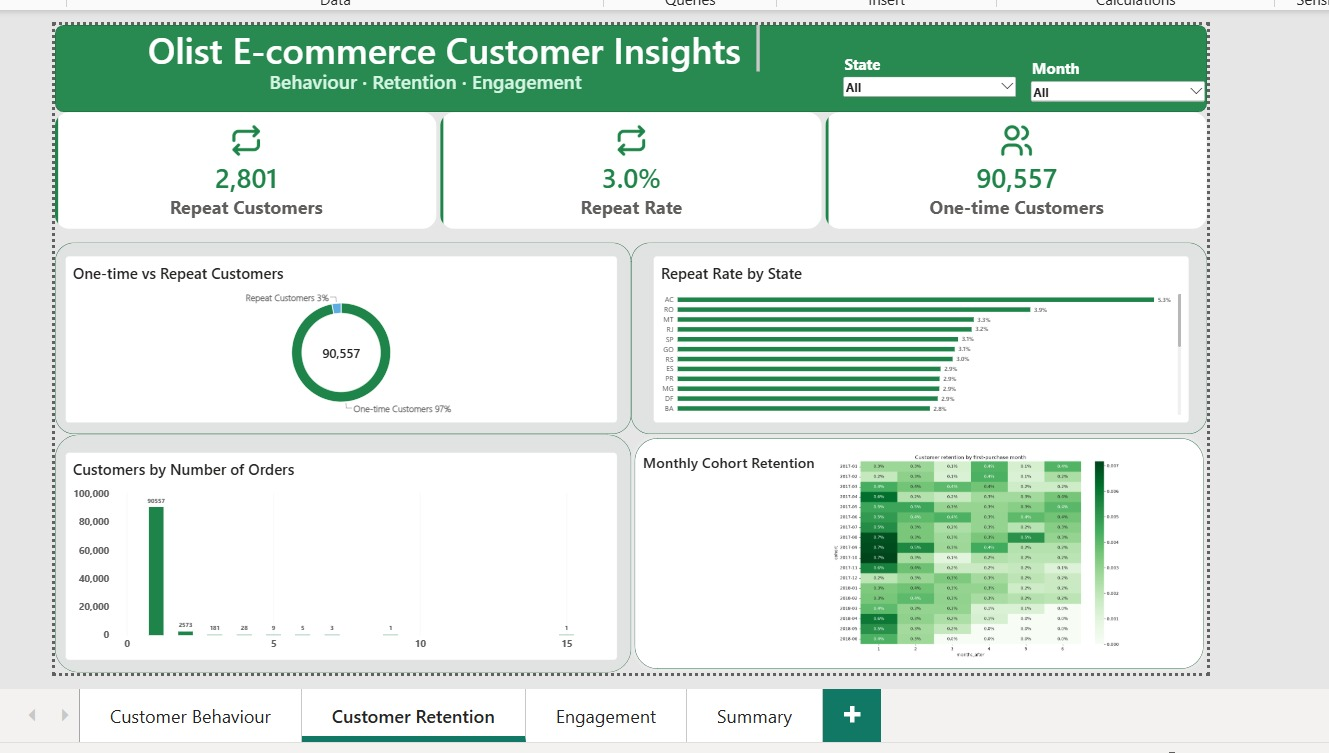

What the dashboard file says about the page in this screenshot:
{"tool":"powerbi","page":{"name":"Customer Retention","canvas":[2560,1440],"ordinal":1},"visuals":[{"type":"shape","box":[0,0,2560,193.3],"z":0},{"type":"shape","box":[1280.6,483.9,1280.6,425.8],"z":1000},{"type":"shape","box":[1280.6,909.7,1280.6,529],"z":2000},{"type":"cardVisual","fields":{"Data":["Measures Table.Repeat Customers","Measures Table.Repeat Rate","Measures Table.One-time Customers"]},"box":[0,193.3,2560,260],"z":3000},{"type":"shape","box":[0,483.9,1280.6,425.8],"z":4000},{"type":"shape","box":[0,909.7,1280.6,529],"z":5000},{"type":"textbox","box":[206.7,0,1360,113.3],"z":6000},{"type":"textbox","box":[476.7,96.7,713.3,83.3],"z":7000},{"type":"slicer","fields":{"Values":["olist orders_clean.purchase_month"]},"box":[2163.3,73.3,396.7,133.3],"z":8000},{"type":"slicer","fields":{"Values":["olist orders_clean.customer_state"]},"box":[1746.7,63.3,393.3,116.7],"z":9000},{"type":"donutChart","title":"One-time vs Repeat Customers ","fields":{"Y":["Measures Table.One-time Customers","Measures Table.Repeat Customers"]},"box":[22.6,512.9,1225.8,371],"z":10000},{"type":"clusteredColumnChart","title":"Customers by Number of Orders","fields":{"Category":["Customer Orders.Orders"],"Y":["CountNonNull(Customer Orders.customer_unique_id)"]},"box":[22.6,951.6,1225.8,461.3],"z":11000},{"type":"clusteredBarChart","title":"Repeat Rate by State","fields":{"Category":["olist orders_clean.customer_state"],"Y":["Measures Table.Repeat Rate"]},"box":[1329,512.9,1190.3,371],"z":12000},{"type":"image","box":[1671,951.6,754.8,461.3],"z":13000},{"type":"textbox","box":[1306.7,950,390,76.7],"z":14000}]}

Visuals, with their boxes on the page's 2560x1440 design canvas (x1, y1, x2, y2). These are canvas units, not pixel positions in the 1329x753 screenshot, which may show the page scaled, cropped or inside an application window:
shape: BBox(0, 0, 2560, 193)
shape: BBox(1281, 484, 2561, 910)
shape: BBox(1281, 910, 2561, 1439)
cardVisual - Measures Table.Repeat Customers x Measures Table.Repeat Rate: BBox(0, 193, 2560, 453)
shape: BBox(0, 484, 1281, 910)
shape: BBox(0, 910, 1281, 1439)
textbox: BBox(207, 0, 1567, 113)
textbox: BBox(477, 97, 1190, 180)
slicer - olist orders_clean.purchase_month: BBox(2163, 73, 2560, 207)
slicer - olist orders_clean.customer_state: BBox(1747, 63, 2140, 180)
"One-time vs Repeat Customers " donutChart: BBox(23, 513, 1248, 884)
"Customers by Number of Orders" clusteredColumnChart: BBox(23, 952, 1248, 1413)
"Repeat Rate by State" clusteredBarChart: BBox(1329, 513, 2519, 884)
image: BBox(1671, 952, 2426, 1413)
textbox: BBox(1307, 950, 1697, 1027)
